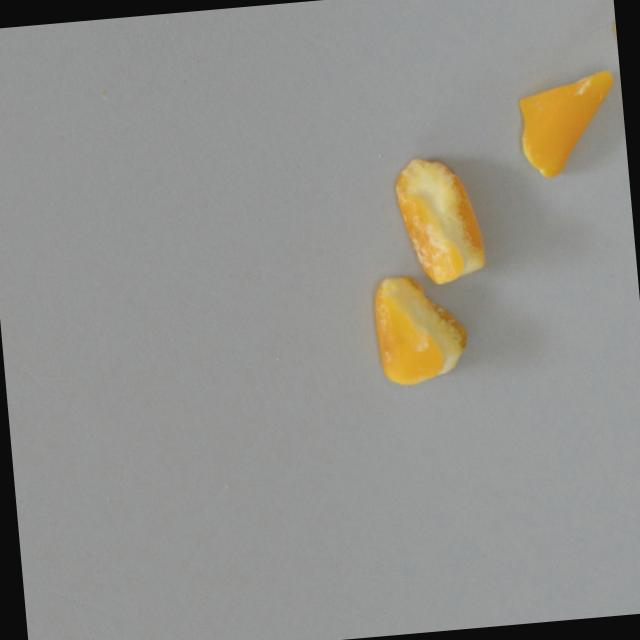estandar: (513, 69, 622, 179)
pelicula: (390, 152, 490, 288), (370, 270, 471, 388)
